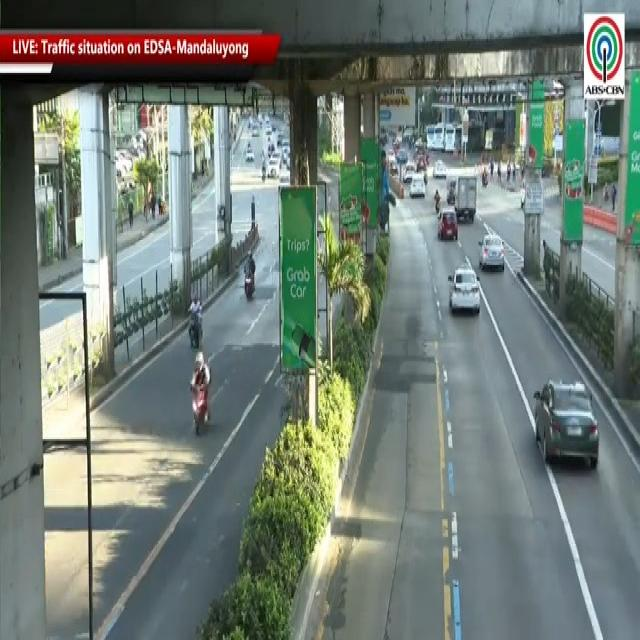car: (532, 373, 603, 480), (449, 268, 481, 316), (478, 235, 512, 277), (435, 210, 458, 240)
motorbike: (190, 345, 218, 433), (187, 293, 203, 345), (242, 250, 256, 302), (432, 189, 441, 206)
truck: (452, 175, 476, 220)
